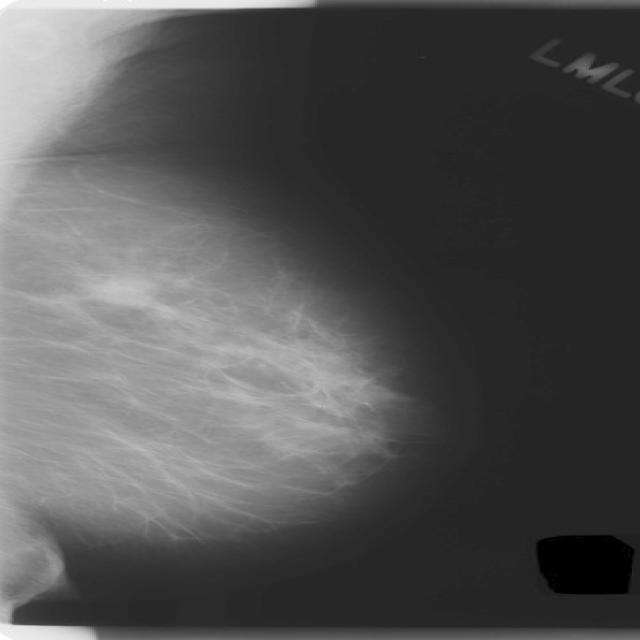tumour: (76, 273, 162, 307)
